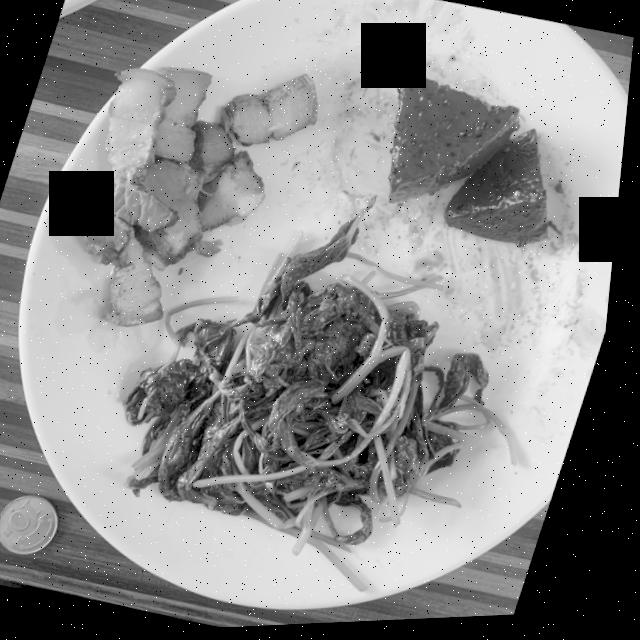coin: (7, 496, 68, 555)
grilled pork: (80, 68, 320, 327)
sweet potato leaves: (130, 221, 525, 595)
